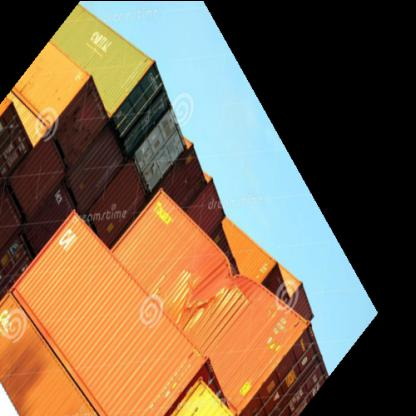Damage: (182, 250, 246, 318)
